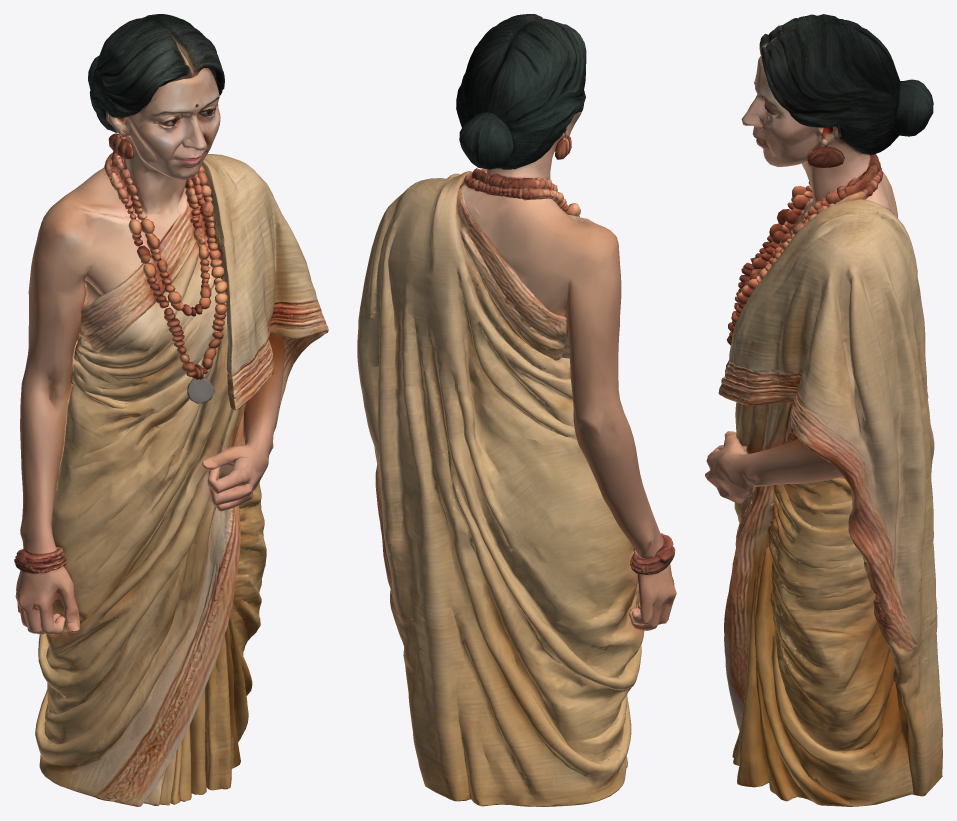
Rendered from crowd_market_woman_rodin_source.glb.
The picture shows the model from 3 angles, left to right: view 1: azimuth 30°, elevation 25°; view 2: azimuth 150°, elevation 25°; view 3: azimuth 270°, elevation 25°; orthographic projection.
Parts seen in each view (by area): view 1: model; view 2: model; view 3: model.
Boxes of the visible parts, left/top/right/bottom form: model: left=14, top=14, right=328, bottom=806; model: left=357, top=14, right=676, bottom=806; model: left=705, top=14, right=942, bottom=806.
Size of the model in its own units: 0.8233 by 1.91 by 0.5467.
1 material, 1 textured.
